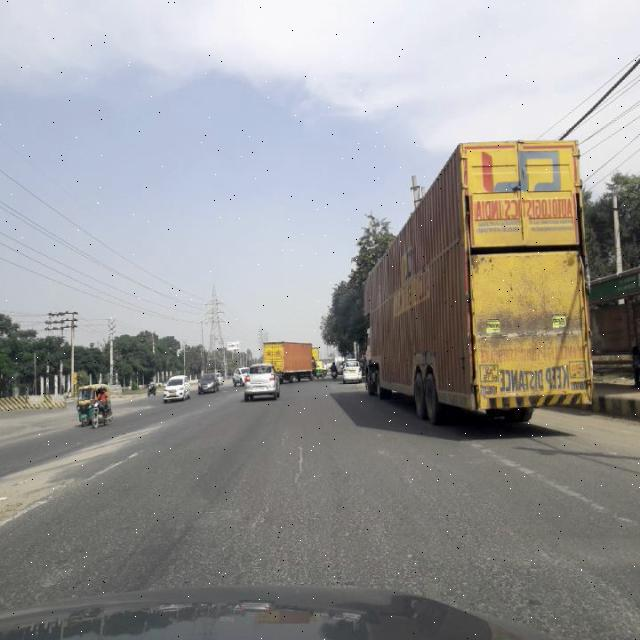D00: (254, 479, 276, 542), (291, 418, 313, 481)
D44: (566, 491, 640, 524), (17, 476, 91, 509), (490, 454, 564, 486), (84, 442, 158, 474)
